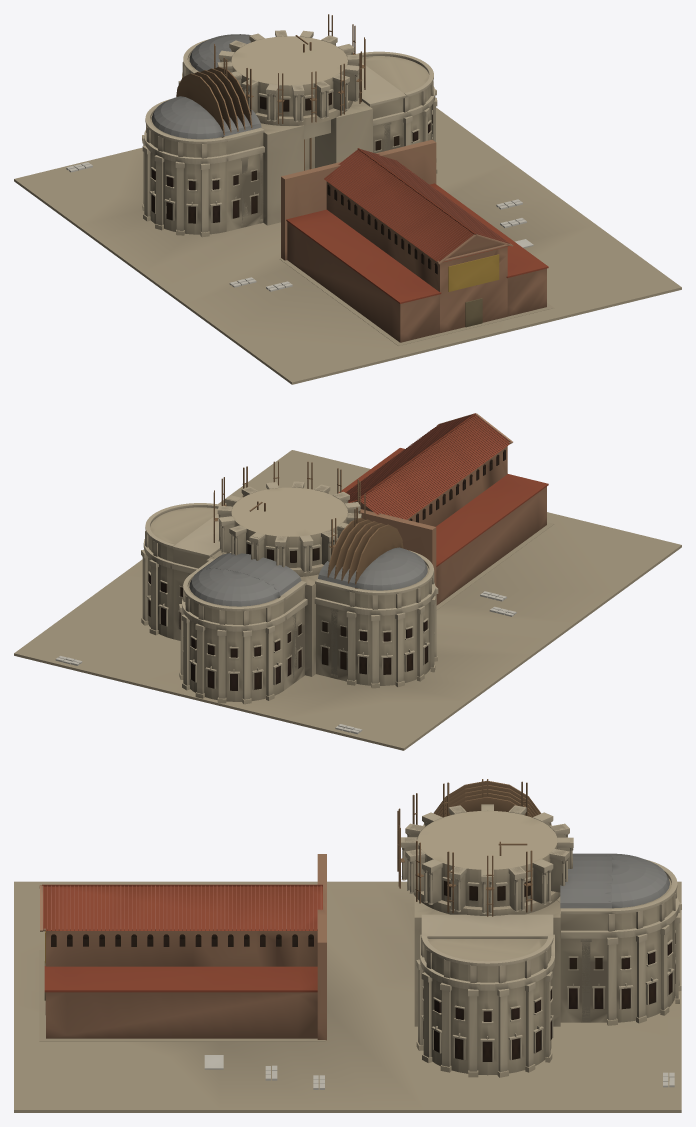
File: new-st-peters-construction.glb
3 views of the same model, one above another, from view 1: azimuth 30°, elevation 25°; view 2: azimuth 150°, elevation 25°; view 3: azimuth 270°, elevation 25° (orthographic). The views are drawn at different scales.
Parts seen in each view (by area): view 1: p0_base, p1_arms, p2_site; view 2: p1_arms, p0_base, p2_site; view 3: p0_base, p1_arms, p2_site.
Boxes of the visible parts, x1=… form: p0_base: x1=14, y1=107, x2=681, y2=384; p1_arms: x1=66, y1=34, x2=546, y2=342; p2_site: x1=176, y1=14, x2=548, y2=303; p1_arms: x1=55, y1=446, x2=546, y2=734; p0_base: x1=14, y1=450, x2=681, y2=750; p2_site: x1=213, y1=413, x2=548, y2=588; p0_base: x1=14, y1=881, x2=681, y2=1112; p1_arms: x1=44, y1=824, x2=681, y2=1089; p2_site: x1=39, y1=779, x2=573, y2=992.
Size of the model in its own units: 170 by 63 by 210.
